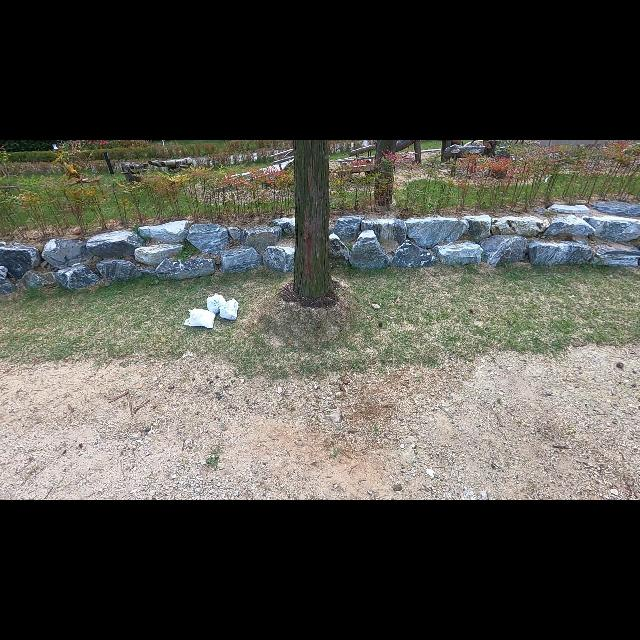trash: (183, 306, 217, 330), (204, 292, 226, 314), (218, 298, 238, 320)
